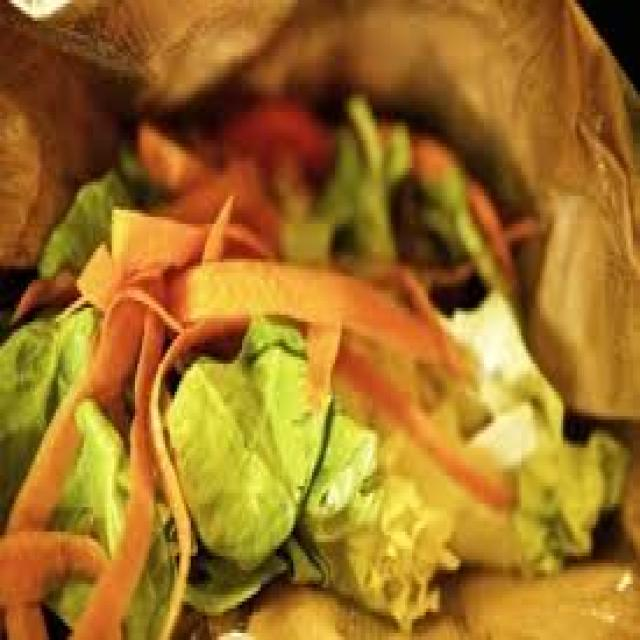Organik: (0, 97, 625, 640)
